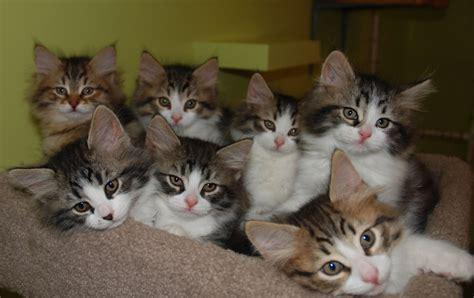cat: (245, 152, 474, 298), (316, 48, 435, 227), (6, 106, 147, 230), (132, 114, 252, 239), (31, 40, 121, 146), (243, 72, 307, 218), (137, 48, 220, 143)
